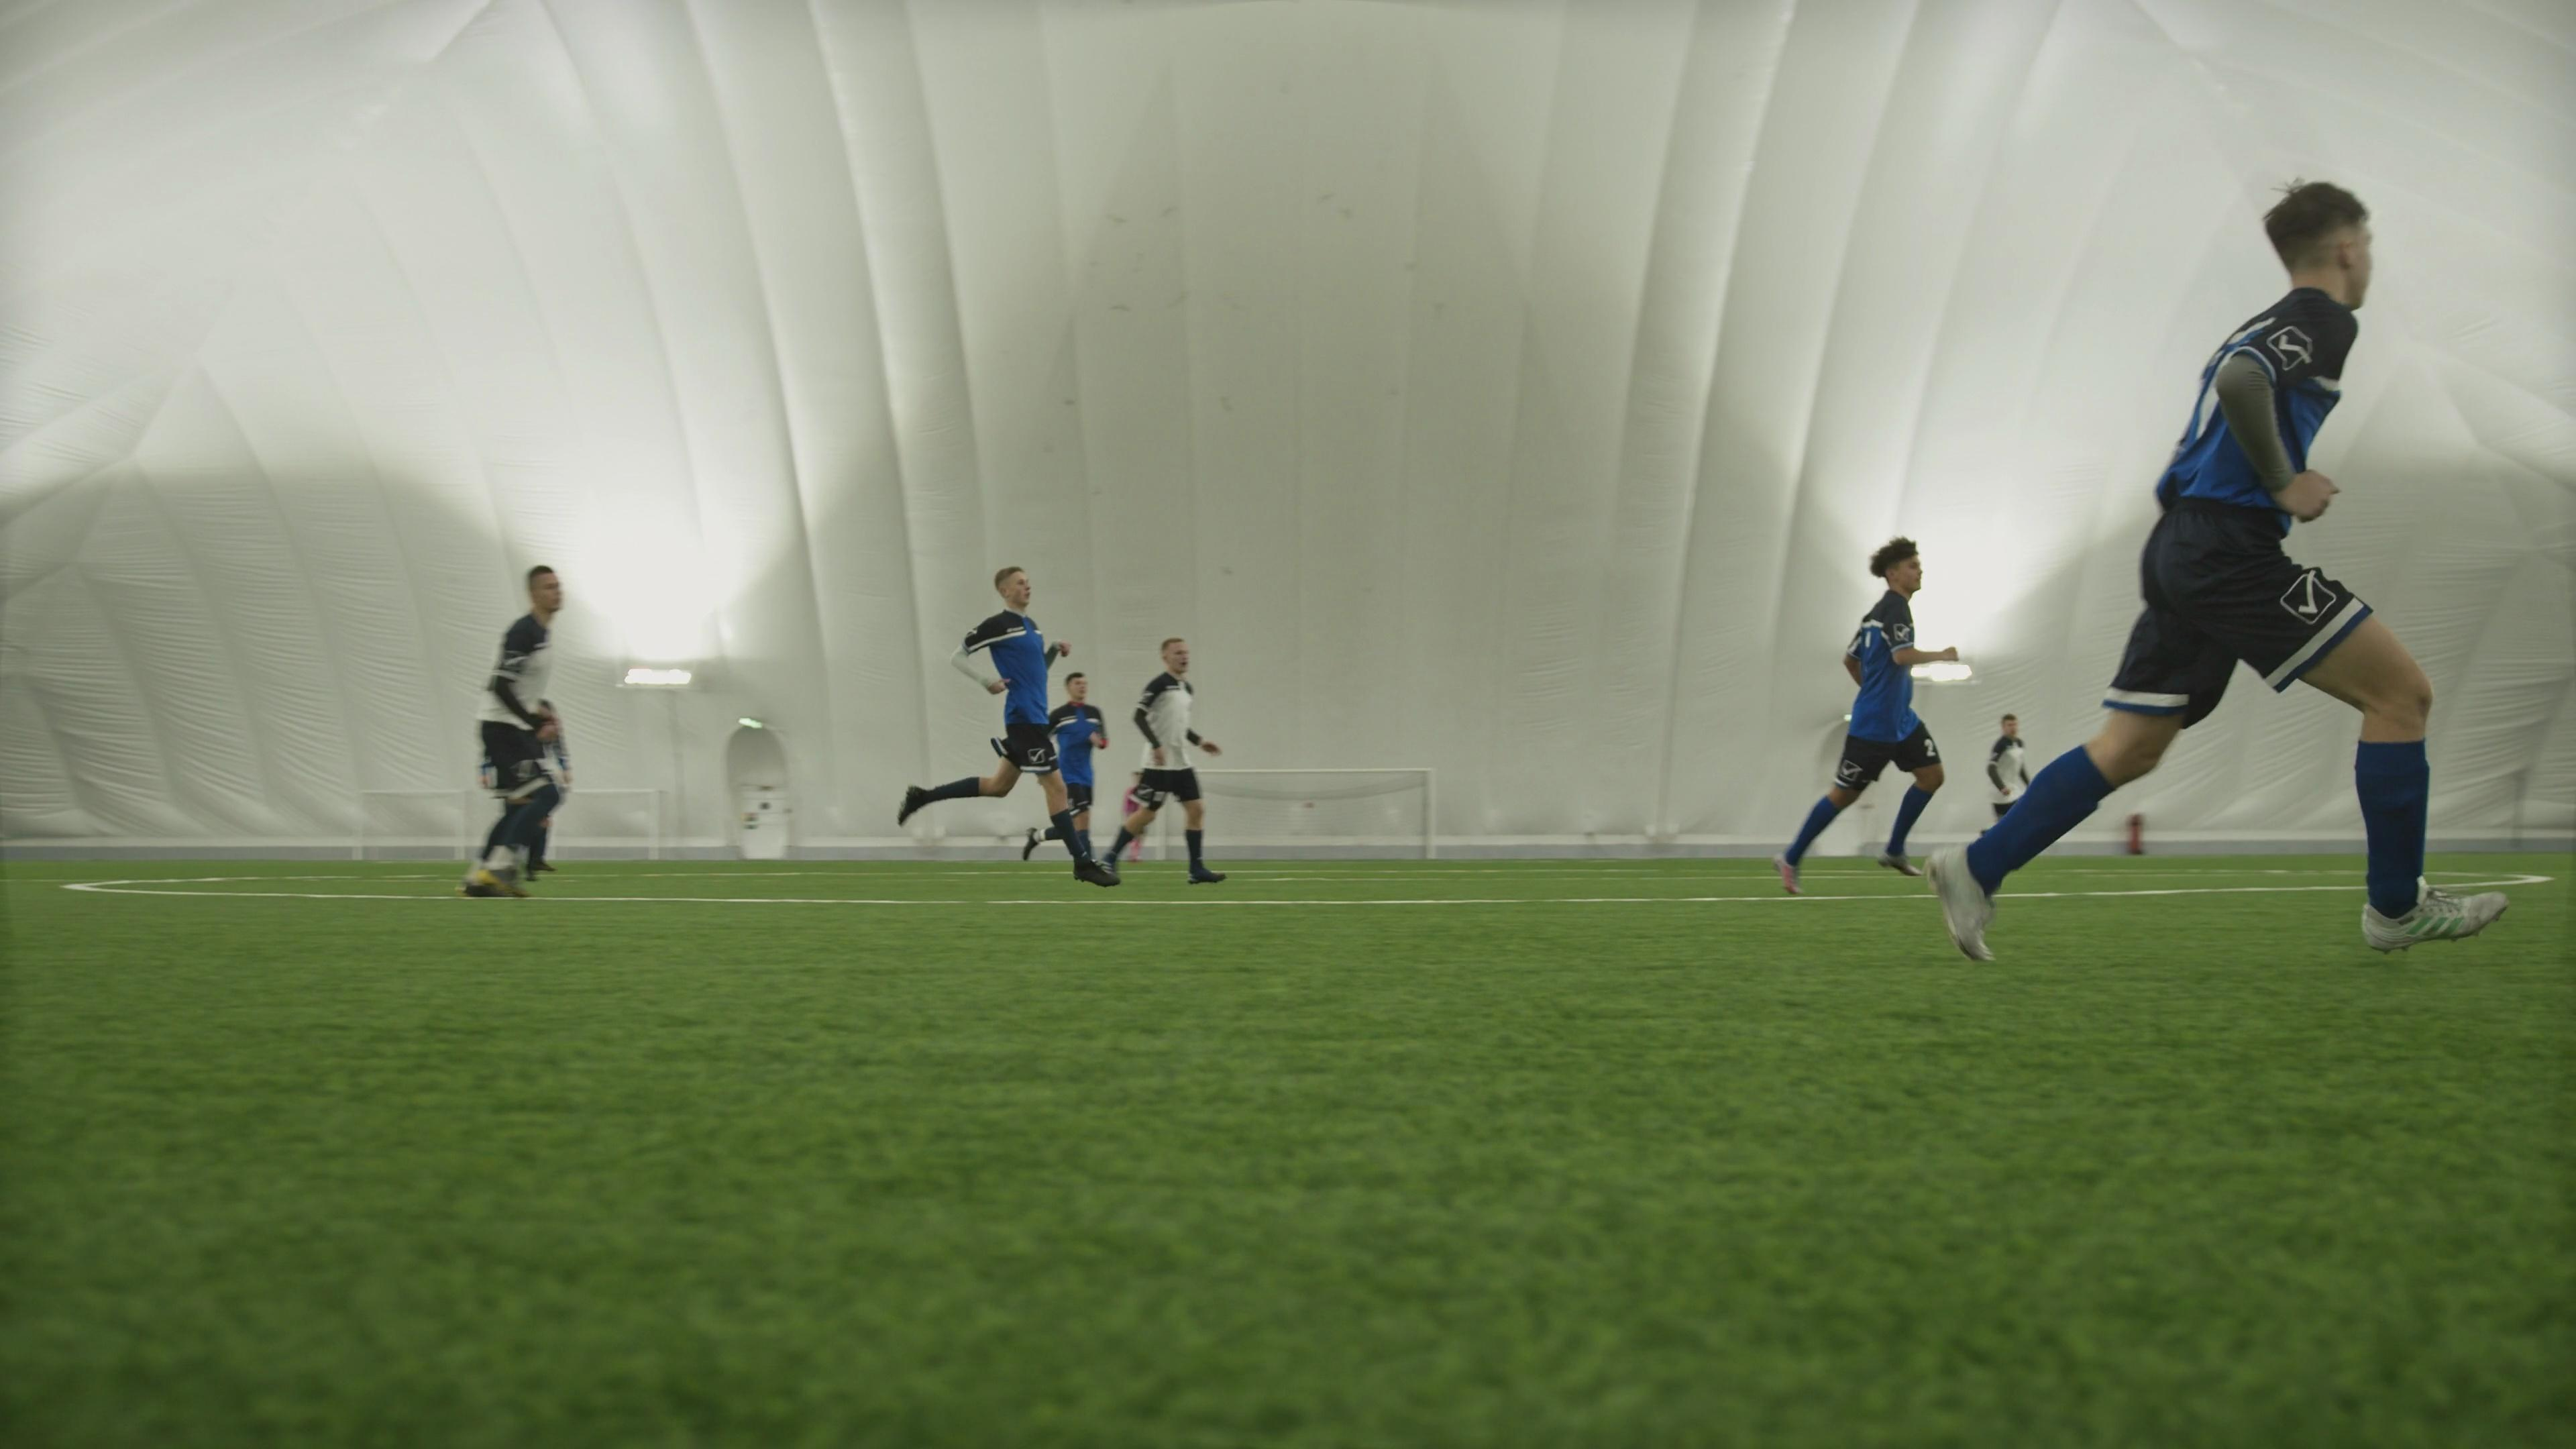team1: (1927, 182, 2511, 966), (1776, 536, 1967, 892), (904, 563, 1056, 881), (1044, 669, 1106, 881)
team2: (462, 561, 573, 897), (1102, 635, 1224, 888), (1985, 708, 2028, 798)
